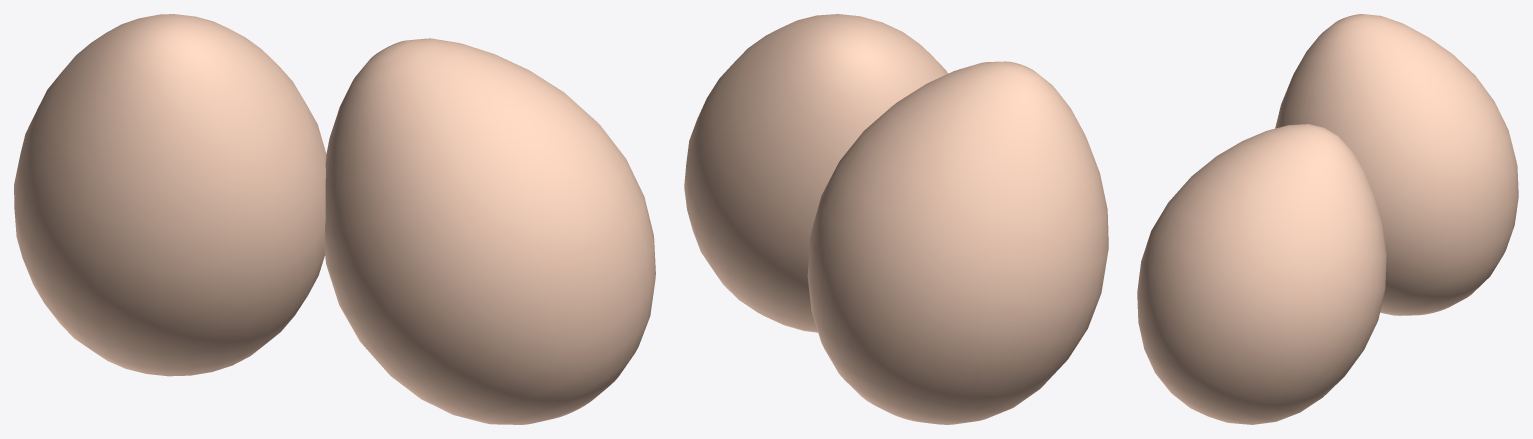
Rendered from eggs1.fbx.
3 renders of one model, left to right at view 1: azimuth 30°, elevation 25°; view 2: azimuth 150°, elevation 25°; view 3: azimuth 270°, elevation 25°, orthographic. The views are drawn at different scales.
Parts seen in each view (by area): view 1: Sphere.010, Sphere.015; view 2: Sphere.015, Sphere.010; view 3: Sphere.010, Sphere.015.
Boxes of the visible parts, box(x1,y1,x2,y2) form: Sphere.010: box(325, 38, 655, 424); Sphere.015: box(14, 14, 326, 376); Sphere.015: box(807, 61, 1108, 424); Sphere.010: box(684, 14, 947, 332); Sphere.010: box(1137, 124, 1386, 424); Sphere.015: box(1275, 14, 1518, 315).
Size of the model in its own units: 123 by 91.47 by 106.
